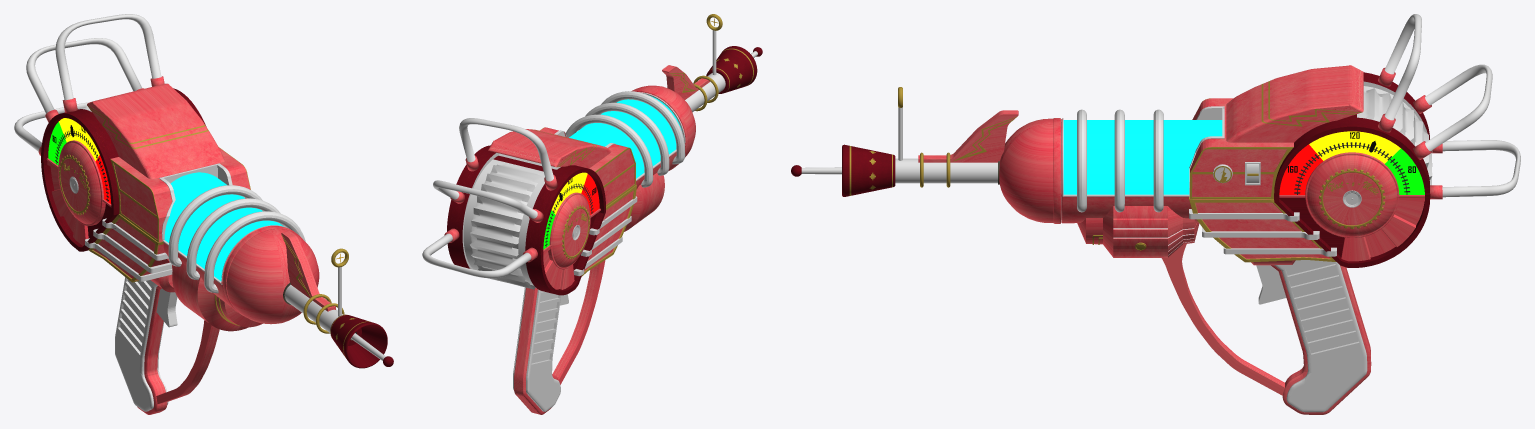
File: raygujn.fbx
3 renders of one model, left to right at view 1: azimuth 30°, elevation 25°; view 2: azimuth 150°, elevation 25°; view 3: azimuth 270°, elevation 25°, orthographic. The views are drawn at different scales.
Visible parts, largest first — view 1: Cube.004, Cylinder.005, Cylinder.008, Cylinder.031, Cube.002, Cylinder.001, Torus, Cube.009, Cylinder, Cube.011, Cylinder.007, Cube.005 (+8 smaller); view 2: Cylinder, Cylinder.008, Cylinder.031, Torus, Cube.011, Cube.009, Cylinder.001, Cube.004, Cube.002, Cylinder.005, Cylinder.004, Cube.005 (+6 smaller); view 3: Cylinder.008, Cube.009, Cylinder.001, Cube.004, Cylinder.005, Cylinder, Cylinder.031, Cube.002, Cylinder.007, Cube.005, Cube.011, Torus (+7 smaller).
Boxes of the visible parts, x1,y1,x2,y2 form: Cube.004: [87, 83, 224, 178]; Cylinder.005: [162, 225, 319, 324]; Cylinder.008: [46, 118, 111, 245]; Cylinder.031: [14, 14, 164, 155]; Cube.002: [110, 147, 250, 242]; Cylinder.001: [164, 172, 283, 280]; Torus: [168, 185, 305, 293]; Cube.009: [115, 277, 168, 411]; Cylinder: [41, 88, 206, 251]; Cube.011: [137, 286, 219, 414]; Cylinder.007: [172, 263, 262, 331]; Cube.005: [88, 214, 169, 282]; Cylinder: [447, 145, 605, 295]; Cylinder.008: [543, 172, 600, 289]; Cylinder.031: [422, 118, 557, 278]; Torus: [566, 91, 685, 187]; Cube.011: [514, 260, 605, 414]; Cube.009: [513, 287, 560, 411]; Cylinder.001: [569, 96, 681, 178]; Cube.004: [488, 129, 611, 168]; Cube.002: [540, 127, 635, 206]; Cylinder.005: [616, 85, 695, 188]; Cylinder.004: [706, 46, 757, 93]; Cube.005: [581, 184, 636, 276]; Cylinder.008: [1279, 131, 1424, 261]; Cube.009: [1274, 260, 1367, 412]; Cylinder.001: [1063, 120, 1222, 194]; Cube.004: [1226, 65, 1363, 142]; Cylinder.005: [999, 118, 1198, 223]; Cylinder: [1274, 72, 1432, 267]; Cylinder.031: [1378, 14, 1520, 199]; Cube.002: [1189, 98, 1293, 198]; Cylinder.007: [1077, 206, 1199, 257]; Cube.005: [1189, 196, 1336, 262]; Cube.011: [1161, 244, 1371, 414]; Torus: [1077, 109, 1163, 212].
Size of the model in its own units: 149 by 455 by 784.
Materials: 15 (5 with a texture image).
